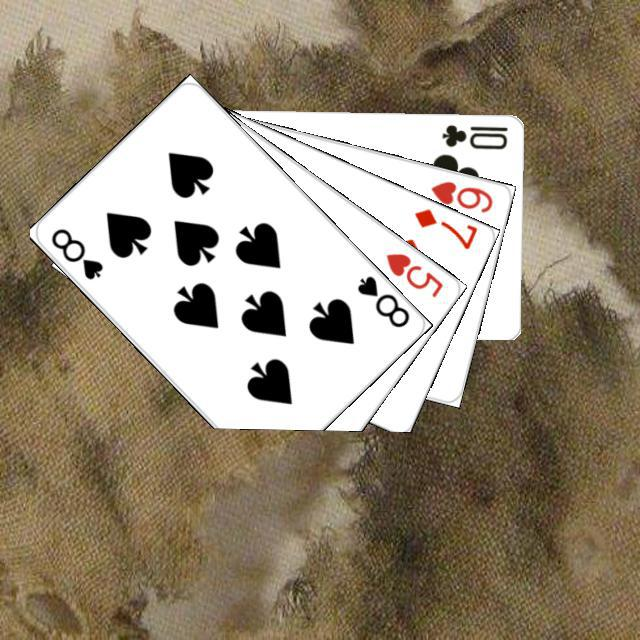10c: (437, 119, 509, 151)
5h: (380, 247, 445, 299)
6h: (426, 176, 495, 215)
7d: (409, 203, 479, 251)
8s: (352, 270, 412, 330), (46, 223, 105, 282)
